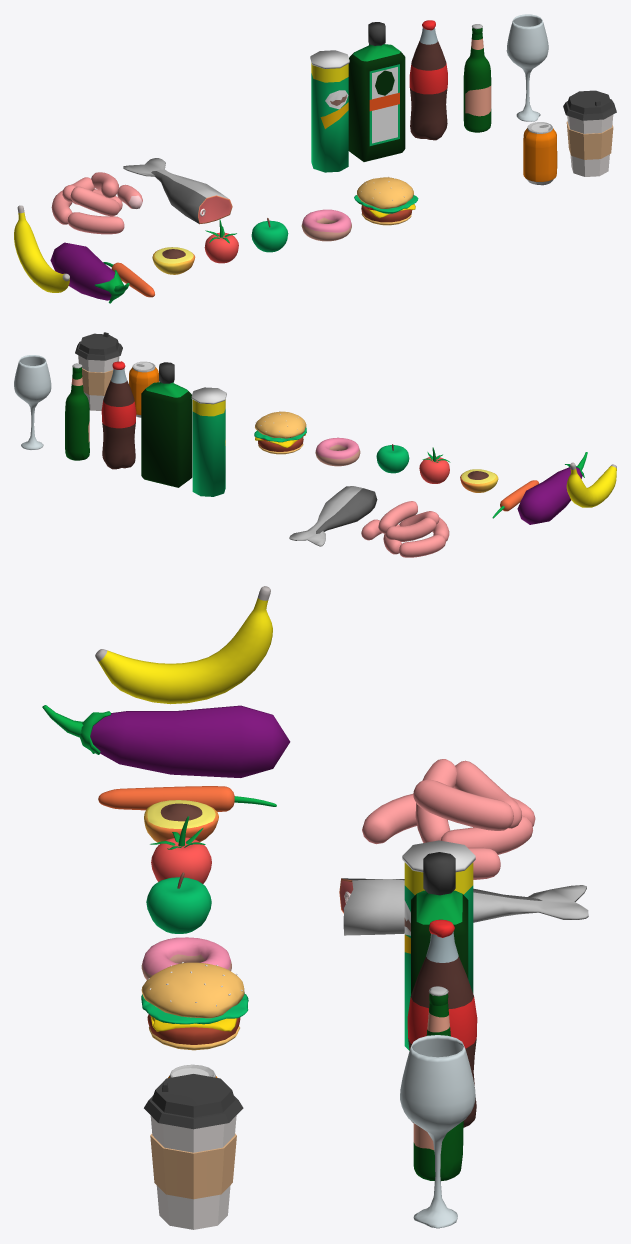
The model's file is food.fbx.
The picture shows the model from 3 angles, top to bottom: view 1: azimuth 30°, elevation 25°; view 2: azimuth 150°, elevation 25°; view 3: azimuth 270°, elevation 25°; orthographic projection. The views are drawn at different scales.
Visible parts, largest first — view 1: drink_001, chips_001, drink_002, coffee_001, sausages_001, fish_001, eggplant_001, drink_003, burger_001, wineglass_001, drink_004, banana_001 (+5 smaller); view 2: drink_001, chips_001, sausages_001, drink_002, coffee_001, fish_001, eggplant_001, drink_003, burger_001, wineglass_001, banana_001, donut_001 (+5 smaller); view 3: eggplant_001, coffee_001, sausages_001, banana_001, burger_001, wineglass_001, fish_001, drink_002, drink_001, chips_001, drink_003, apple_001 (+4 smaller).
Part boxes in pixels (<box>): drink_001: <box>348,22,405,161</box>; chips_001: <box>310,50,349,172</box>; drink_002: <box>409,20,447,140</box>; coffee_001: <box>563,90,616,176</box>; sausages_001: <box>51,172,142,234</box>; fish_001: <box>123,158,232,224</box>; eggplant_001: <box>50,242,129,303</box>; drink_003: <box>463,24,491,132</box>; burger_001: <box>354,176,418,225</box>; wineglass_001: <box>506,14,548,121</box>; drink_004: <box>523,122,557,185</box>; banana_001: <box>14,205,69,292</box>; drink_001: <box>141,362,192,487</box>; chips_001: <box>191,387,226,496</box>; sausages_001: <box>361,501,449,557</box>; drink_002: <box>101,361,136,469</box>; coffee_001: <box>75,332,122,410</box>; fish_001: <box>289,486,377,546</box>; eggplant_001: <box>517,452,587,524</box>; drink_003: <box>65,363,89,460</box>; burger_001: <box>254,411,306,454</box>; wineglass_001: <box>14,355,51,449</box>; banana_001: <box>566,462,616,507</box>; donut_001: <box>315,437,360,466</box>; eggplant_001: <box>42,705,290,777</box>; coffee_001: <box>144,1074,243,1229</box>; sausages_001: <box>362,759,535,879</box>; banana_001: <box>95,586,272,704</box>; burger_001: <box>141,962,248,1050</box>; wineglass_001: <box>400,1035,475,1228</box>; fish_001: <box>339,878,588,935</box>; drink_002: <box>407,919,477,1127</box>; drink_001: <box>411,852,468,994</box>; chips_001: <box>402,840,475,1050</box>; drink_003: <box>413,986,463,1181</box>; apple_001: <box>146,872,211,933</box>.
Size of the model in its own units: 133 by 28.9 by 60.28.
